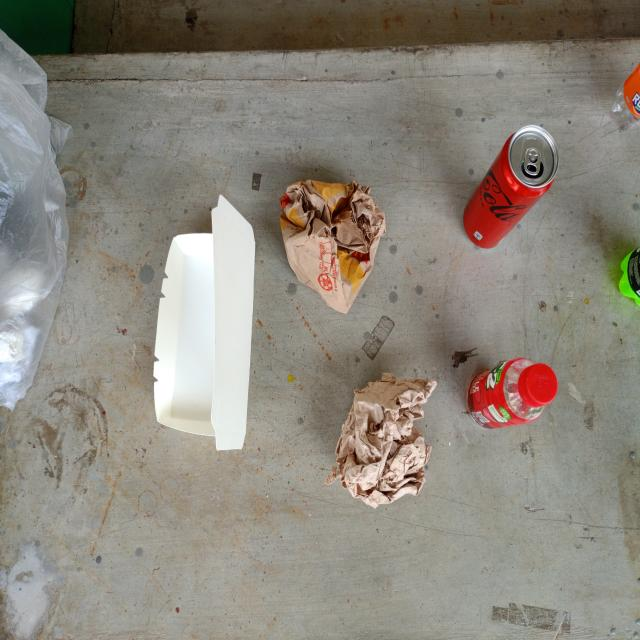Anorganik: (462, 123, 559, 250), (465, 357, 560, 431), (606, 55, 640, 136), (617, 240, 640, 310)
Organik: (153, 190, 257, 457), (323, 370, 437, 510), (278, 177, 388, 314)
